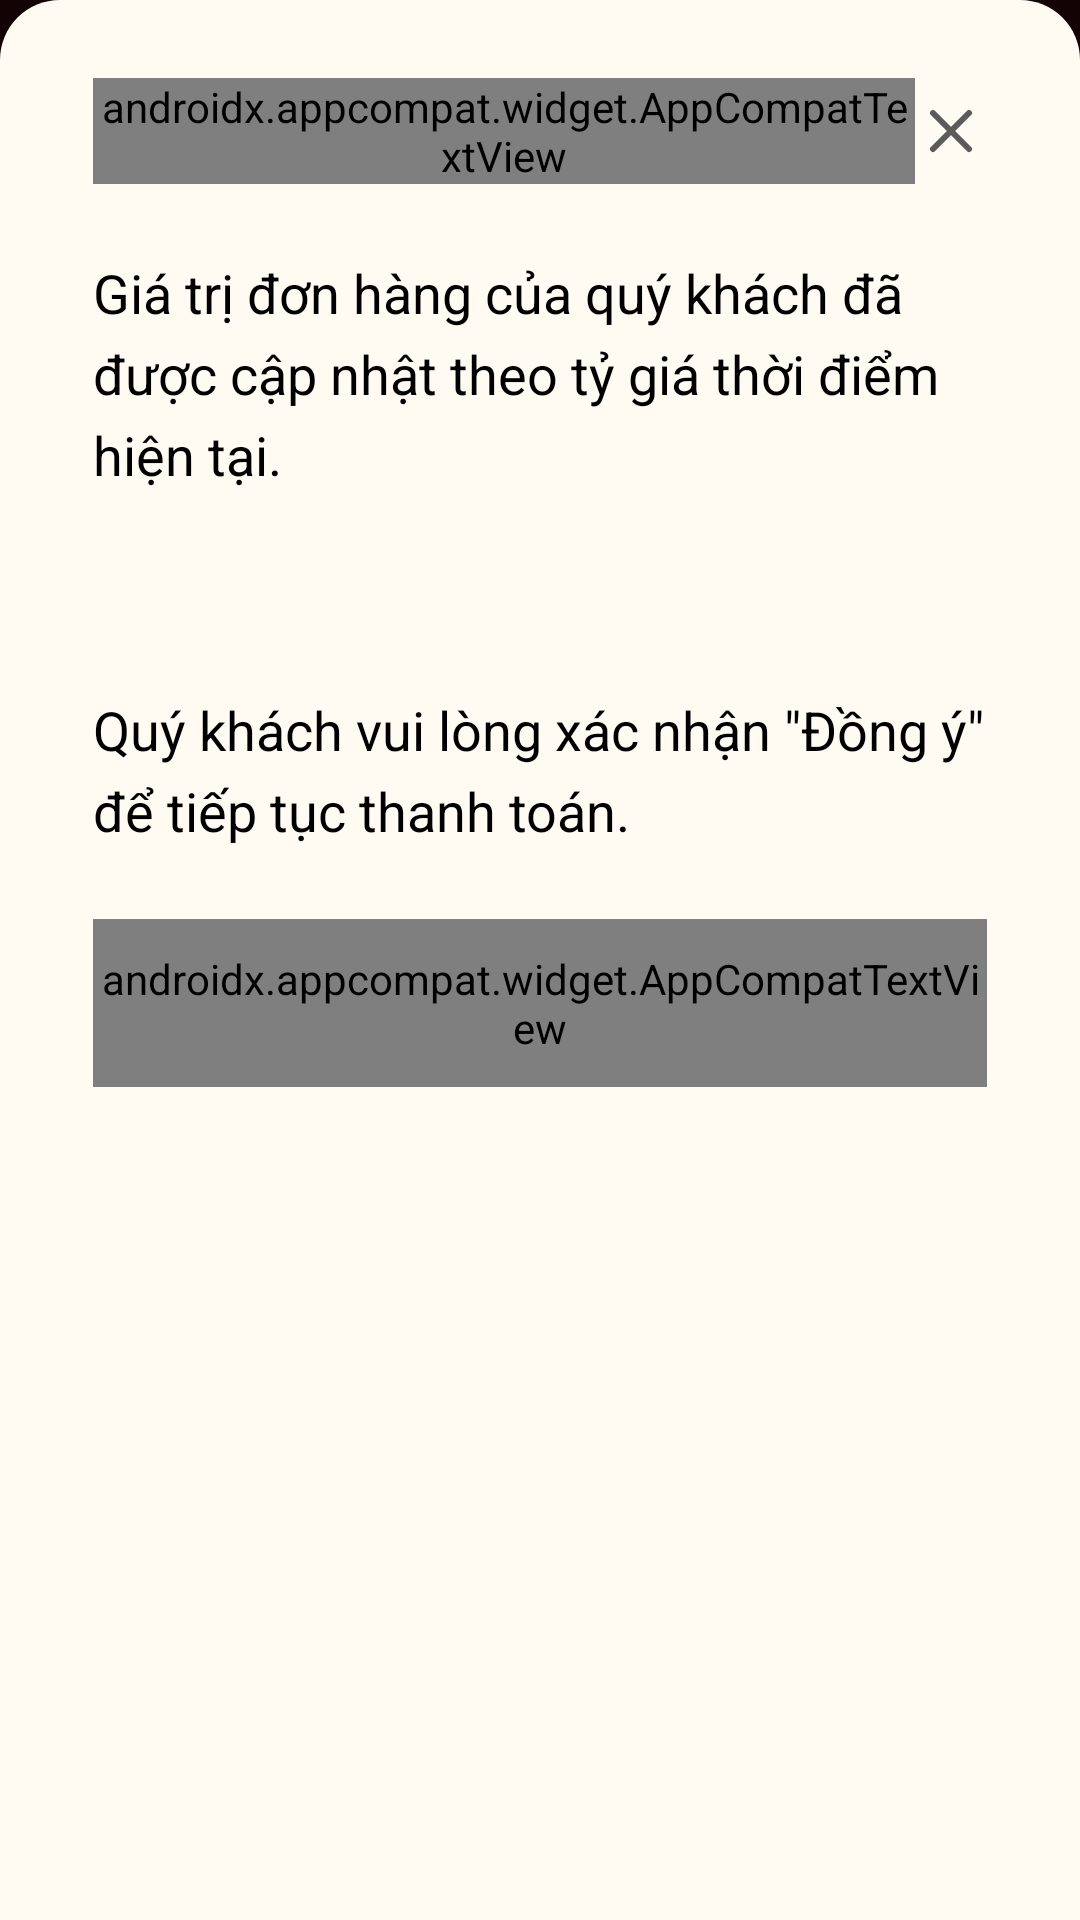

Locate icon controls on the screen. Image size 1080×1920, boxes as (x1, y1, x2, y2).
Đóng: (930, 110, 972, 152)
